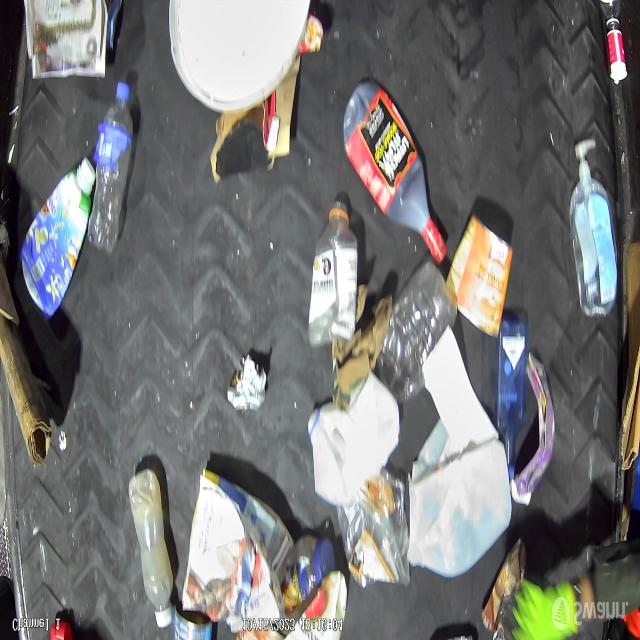can: (228, 352, 267, 412)
milk_jug: (407, 419, 512, 581), (308, 373, 400, 505)
non_white_jug: (20, 156, 94, 319)
plastic_bottle: (378, 259, 456, 402), (570, 138, 618, 315), (306, 202, 361, 350), (88, 82, 135, 254), (128, 468, 175, 628)
